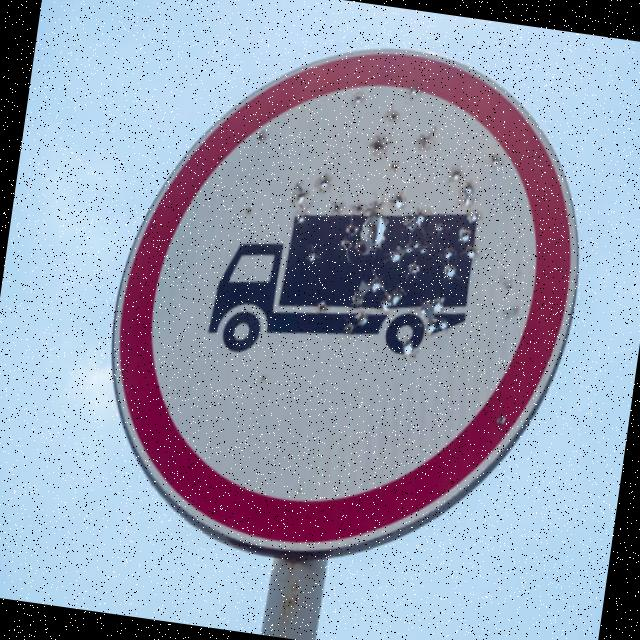do_not_enter: (74, 0, 615, 605)
